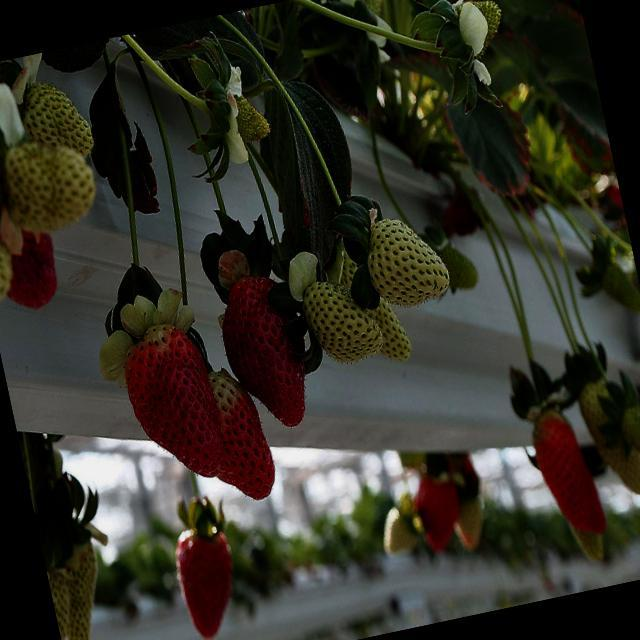ripe: (108, 308, 230, 491), (209, 267, 316, 439), (191, 361, 279, 508), (163, 515, 249, 640), (521, 397, 592, 510), (0, 195, 67, 314), (411, 465, 467, 554), (552, 460, 602, 536)
